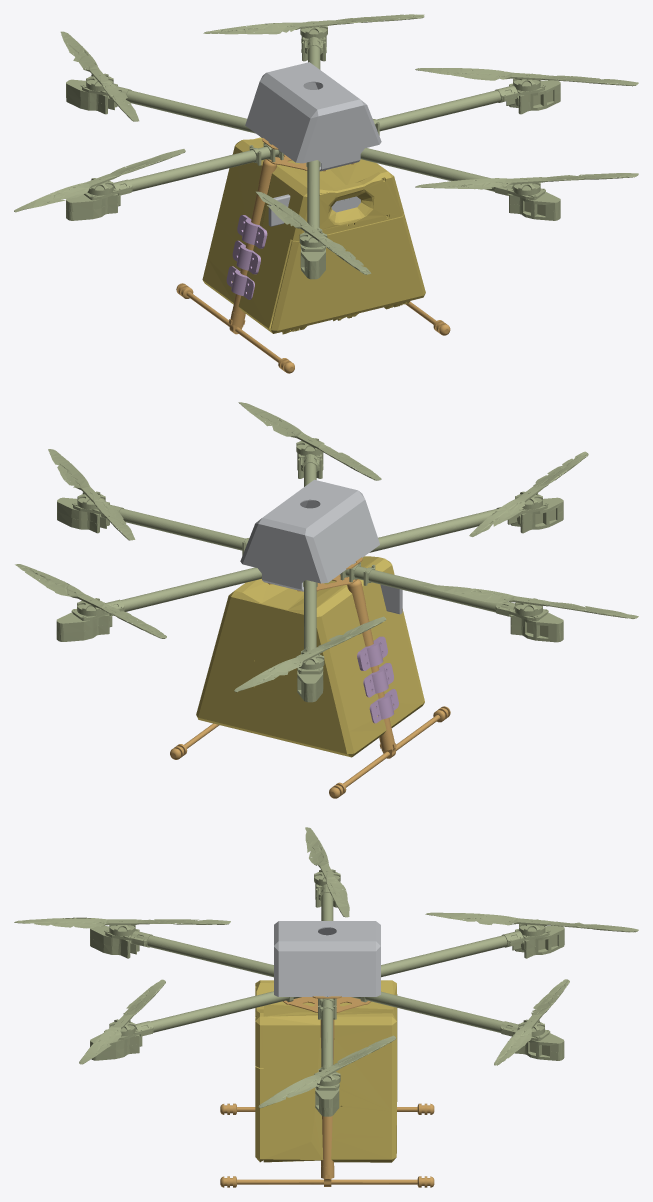
File: agridrone-tarot960.glb
The picture shows the model from 3 angles, top to bottom: view 1: azimuth 30°, elevation 25°; view 2: azimuth 150°, elevation 25°; view 3: azimuth 270°, elevation 25°; orthographic projection. The views are drawn at different scales.
Parts seen in each view (by area): view 1: payload_box_new / payload_box_2nd_it_lid2_mod-1 2, payload_box_new / payload_box_2nd_it_mod-1 3, power_assy / top_cover2-1 2, payload_box_new / payload_box_2nd_it_lid1_mod-1 1, motion_subassy / arm_assy-6 BOM ARM-1 57, motion_subassy / arm_assy-5 BOM ARM-1 42, motion_subassy / arm_assy-2 BOM ARM-1 12, motion_subassy / arm_assy-5 Mirror18in Propeller-1 54, motion_subassy / arm_assy-3 Mirror18in Propeller-1 29, motion_subassy / arm_assy-1 Mirror18in Propeller-1 9, motion_subassy / arm_assy-1 BOM ARM-1 2, motion_subassy / arm_assy-6 Mirror18in Propeller-1 69 (+12 smaller); view 2: payload_box_new / payload_box_2nd_it_mod-1 3, power_assy / top_cover2-1 2, motion_subassy / arm_assy-3 BOM ARM-1 22, motion_subassy / arm_assy-5 BOM ARM-1 42, motion_subassy / arm_assy-6 Mirror18in Propeller-1 69, motion_subassy / arm_assy-6 BOM ARM-1 57, motion_subassy / arm_assy-4 BOM ARM-1 32, motion_subassy / arm_assy-3 Mirror18in Propeller-1 29, motion_subassy / arm_assy-1 Mirror18in Propeller-1 9, motion_subassy / arm_assy-2 Mirror18in Propeller-1 19, motion_subassy / arm_assy-5 Mirror18in Propeller-1 54, motion_subassy / arm_assy-4 Mirror18in Propeller-1 39 (+8 smaller); view 3: payload_box_new / payload_box_2nd_it_mod-1 3, power_assy / top_cover2-1 2, motion_subassy / arm_assy-3 BOM ARM-1 22, motion_subassy / arm_assy-1 BOM ARM-1 2, motion_subassy / arm_assy-4 BOM ARM-1 32, motion_subassy / arm_assy-2 BOM ARM-1 12, motion_subassy / arm_assy-4 Mirror18in Propeller-1 39, motion_subassy / arm_assy-2 Mirror18in Propeller-1 19, motion_subassy / arm_assy-5 Mirror18in Propeller-1 54, motion_subassy / arm_assy-1 Mirror18in Propeller-1 9, motion_subassy / arm_assy-3 Mirror18in Propeller-1 29, motion_subassy / arm_assy-6 Mirror18in Propeller-1 69 (+6 smaller).
Part boxes in pixels (box(x1,y1,x2,y2)): payload_box_new / payload_box_2nd_it_lid2_mod-1 2: box(270, 214, 425, 334); payload_box_new / payload_box_2nd_it_mod-1 3: box(202, 137, 402, 332); power_assy / top_cover2-1 2: box(245, 62, 381, 171); payload_box_new / payload_box_2nd_it_lid1_mod-1 1: box(291, 170, 404, 241); motion_subassy / arm_assy-6 BOM ARM-1 57: box(113, 146, 284, 191); motion_subassy / arm_assy-5 BOM ARM-1 42: box(376, 90, 511, 131); motion_subassy / arm_assy-2 BOM ARM-1 12: box(119, 90, 255, 133); motion_subassy / arm_assy-5 Mirror18in Propeller-1 54: box(415, 68, 638, 86); motion_subassy / arm_assy-3 Mirror18in Propeller-1 29: box(203, 14, 424, 34); motion_subassy / arm_assy-1 Mirror18in Propeller-1 9: box(415, 173, 638, 189); motion_subassy / arm_assy-1 BOM ARM-1 2: box(360, 148, 512, 191); motion_subassy / arm_assy-6 Mirror18in Propeller-1 69: box(14, 149, 185, 212); payload_box_new / payload_box_2nd_it_mod-1 3: box(196, 558, 422, 757); power_assy / top_cover2-1 2: box(240, 479, 379, 591); motion_subassy / arm_assy-3 BOM ARM-1 22: box(111, 567, 261, 611); motion_subassy / arm_assy-5 BOM ARM-1 42: box(119, 508, 245, 550); motion_subassy / arm_assy-6 Mirror18in Propeller-1 69: box(419, 584, 638, 618); motion_subassy / arm_assy-6 BOM ARM-1 57: box(340, 566, 514, 612); motion_subassy / arm_assy-4 BOM ARM-1 32: box(369, 508, 498, 552); motion_subassy / arm_assy-3 Mirror18in Propeller-1 29: box(15, 564, 166, 638); motion_subassy / arm_assy-1 Mirror18in Propeller-1 9: box(238, 402, 381, 480); motion_subassy / arm_assy-2 Mirror18in Propeller-1 19: box(234, 616, 386, 692); motion_subassy / arm_assy-5 Mirror18in Propeller-1 54: box(48, 449, 135, 540); motion_subassy / arm_assy-4 Mirror18in Propeller-1 39: box(469, 451, 588, 536); payload_box_new / payload_box_2nd_it_mod-1 3: box(263, 980, 397, 1162); power_assy / top_cover2-1 2: box(274, 921, 380, 996); motion_subassy / arm_assy-3 BOM ARM-1 22: box(365, 991, 518, 1032); motion_subassy / arm_assy-1 BOM ARM-1 2: box(135, 991, 288, 1032); motion_subassy / arm_assy-4 BOM ARM-1 32: box(137, 935, 273, 977); motion_subassy / arm_assy-2 BOM ARM-1 12: box(381, 935, 517, 977); motion_subassy / arm_assy-4 Mirror18in Propeller-1 39: box(14, 917, 230, 928); motion_subassy / arm_assy-2 Mirror18in Propeller-1 19: box(425, 912, 638, 932); motion_subassy / arm_assy-5 Mirror18in Propeller-1 54: box(258, 1035, 396, 1108); motion_subassy / arm_assy-1 Mirror18in Propeller-1 9: box(79, 979, 165, 1064); motion_subassy / arm_assy-3 Mirror18in Propeller-1 29: box(494, 979, 569, 1065); motion_subassy / arm_assy-6 Mirror18in Propeller-1 69: box(305, 827, 349, 917).
Size of the model in its own units: 1.4 by 0.5099 by 1.31.
